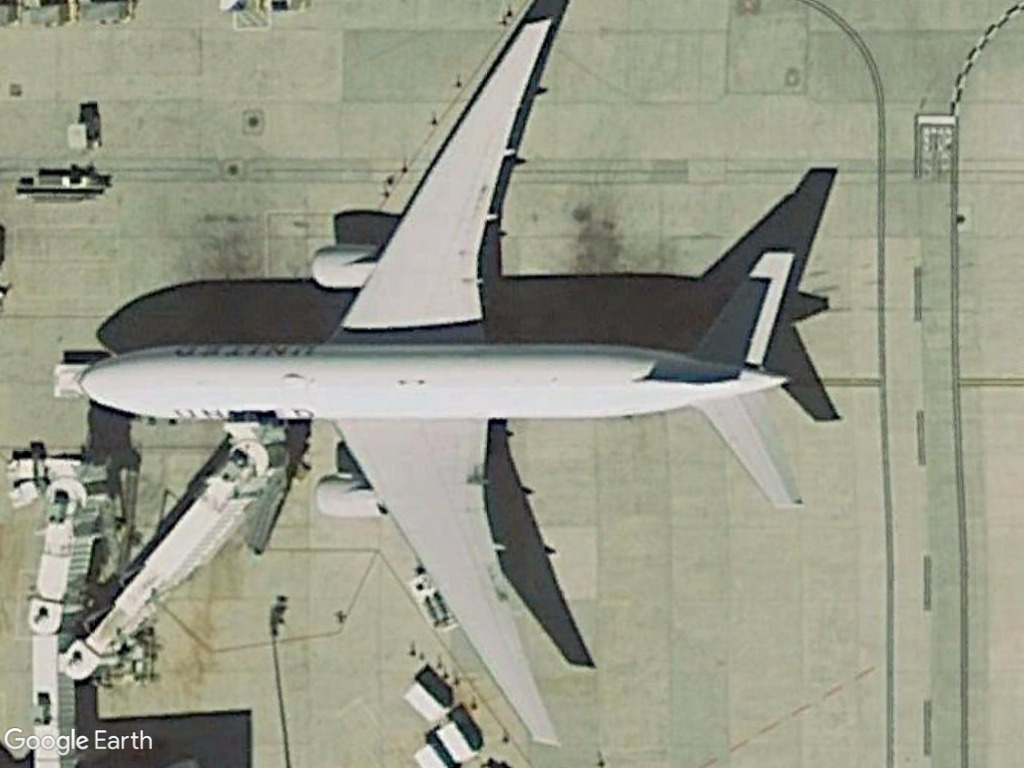airliner: (72, 11, 812, 744)
